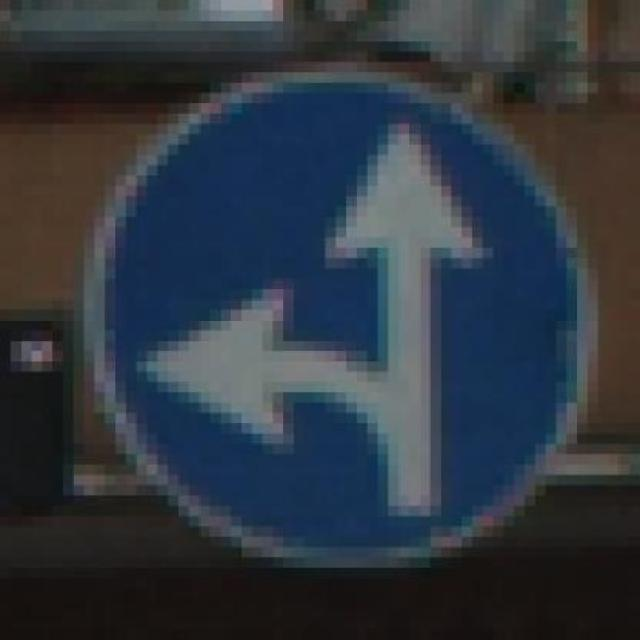Go straight or turn left: (94, 71, 608, 588)
